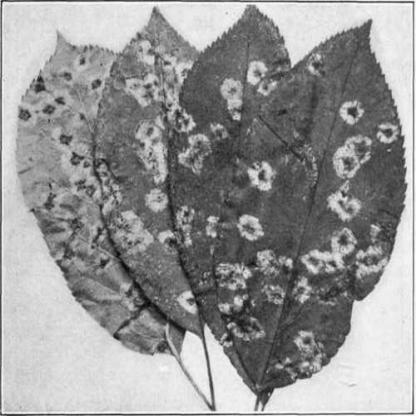Apple rust leaf: (215, 7, 409, 402), (13, 18, 201, 383), (95, 7, 223, 343)
